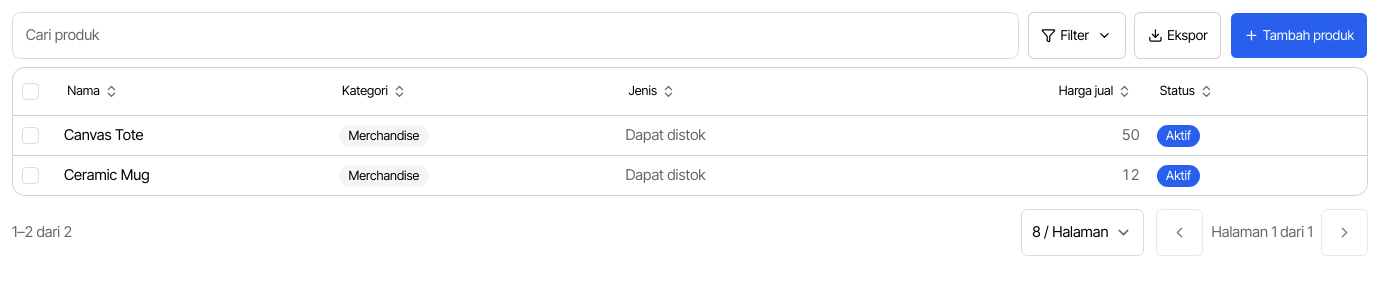
ProductsSection › filters products through the search box
The image size is (1378, 288).
Expected: the link "Canvas Tote" is shown, [64, 126, 144, 144]
Type "Mug" into the search field with placeholder "Cari produk" at (516, 35), box [12, 12, 1019, 59]
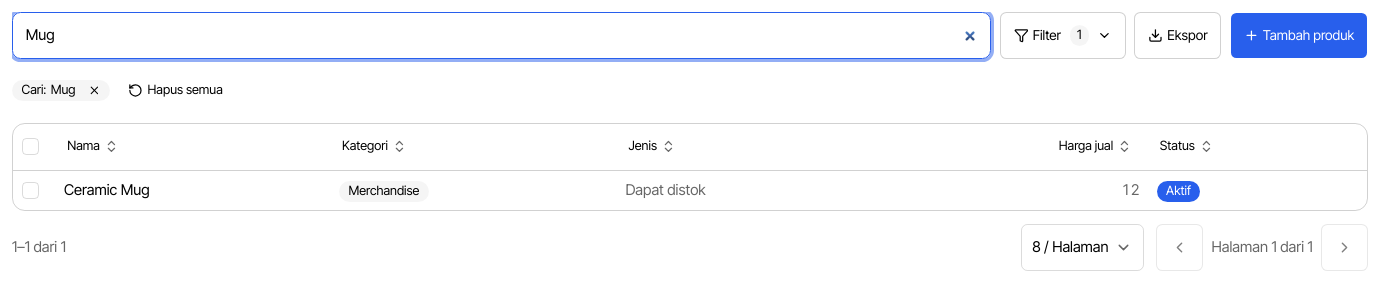
Expected: the link "Ceramic Mug" is shown, [64, 181, 150, 199]
Expected: the link "Canvas Tote" is gone
